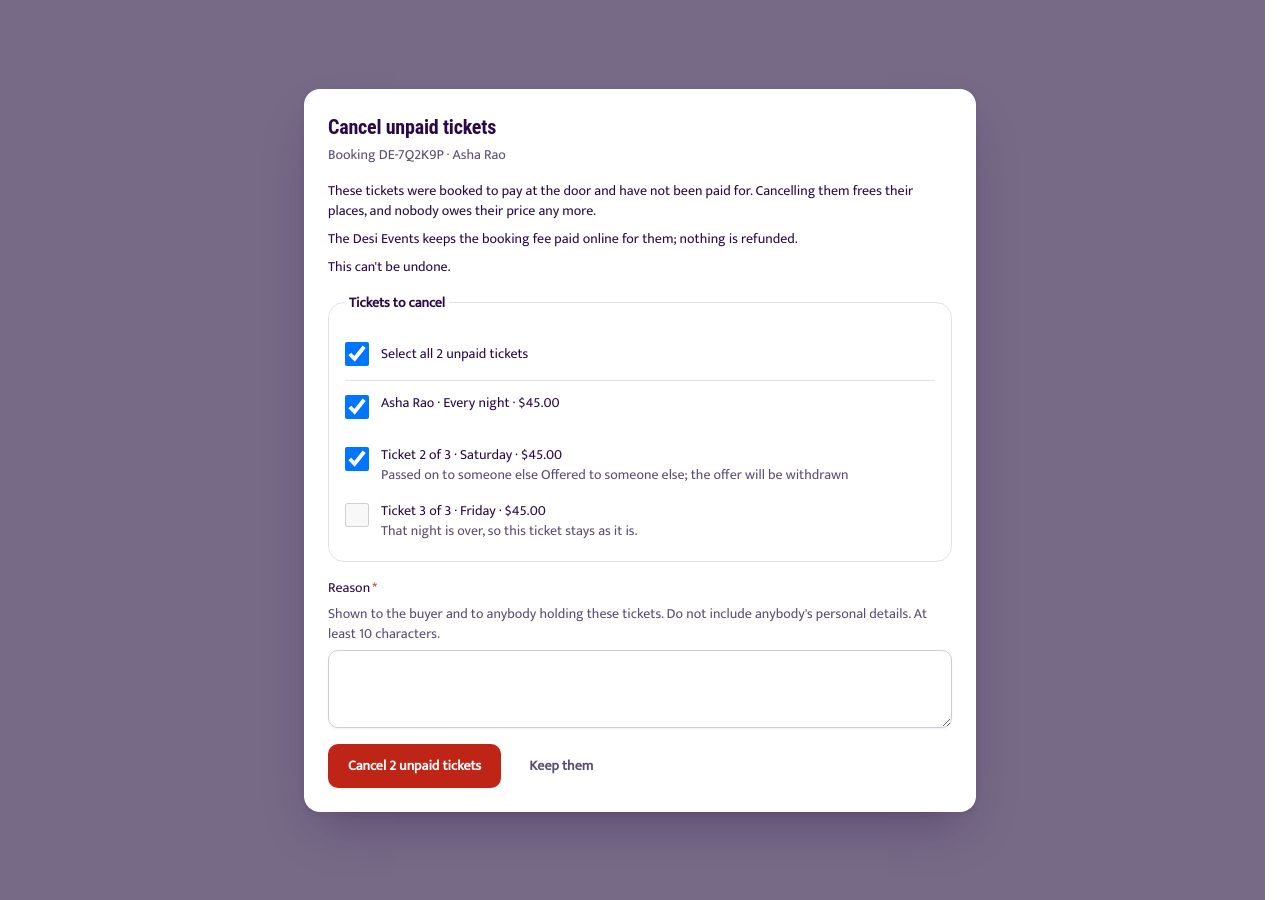
Test: sending › says the API’s sentence for 409 VENUE_NIGHT_OVER, and cancels nothing
Check: the element "Tickets to cancel" is shown, box [328, 292, 952, 562]
Type "Not paid before the doors opened" into the text box labelled "Reason*". click: (640, 688)
box: [328, 650, 952, 728]
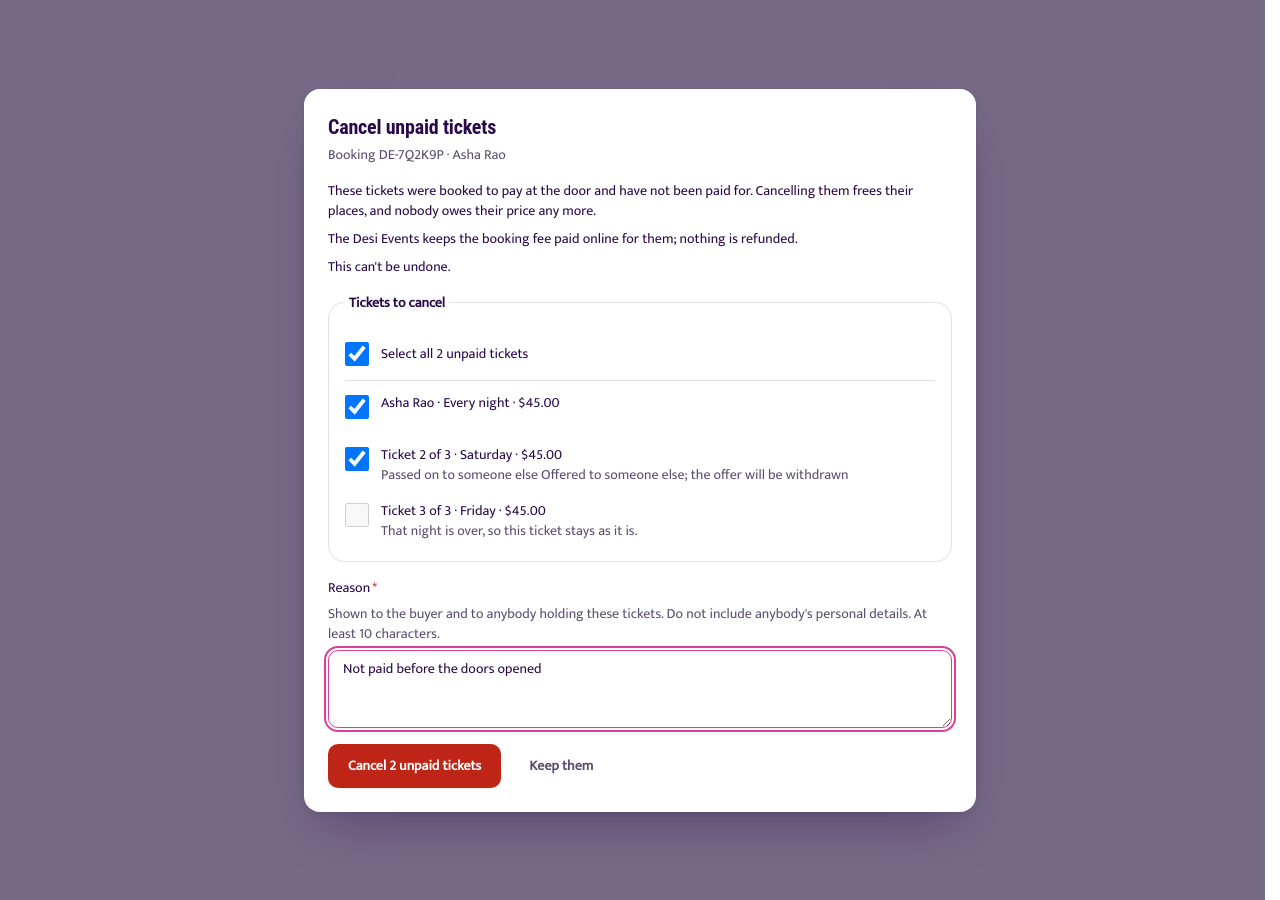
Click the button "Cancel 2 unpaid tickets". click: click(415, 766)
box: [328, 744, 501, 788]
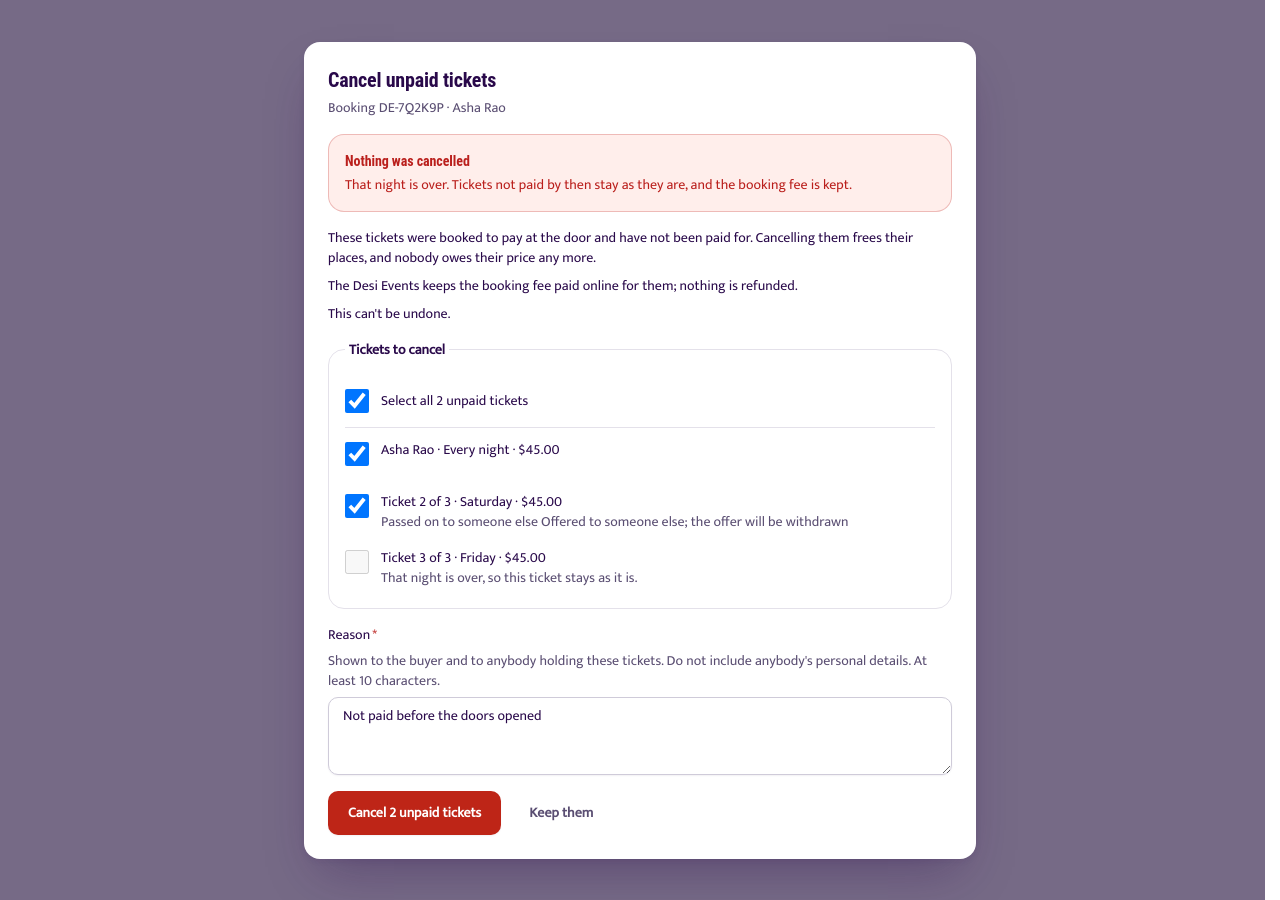
Check: the heading "Nothing was cancelled" is shown, box [345, 152, 470, 168]
